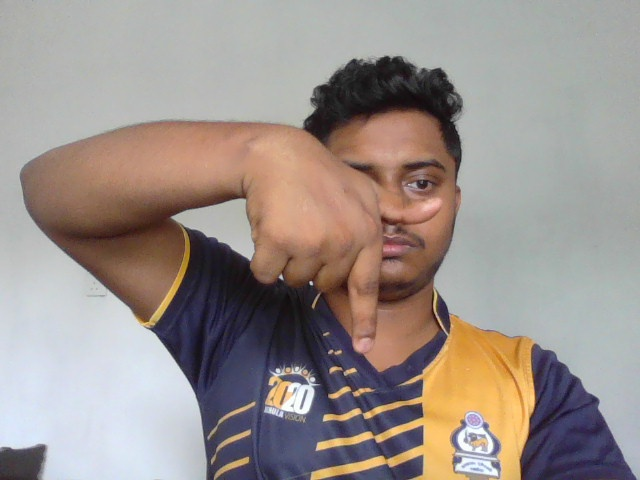Later: (242, 156, 443, 354)
